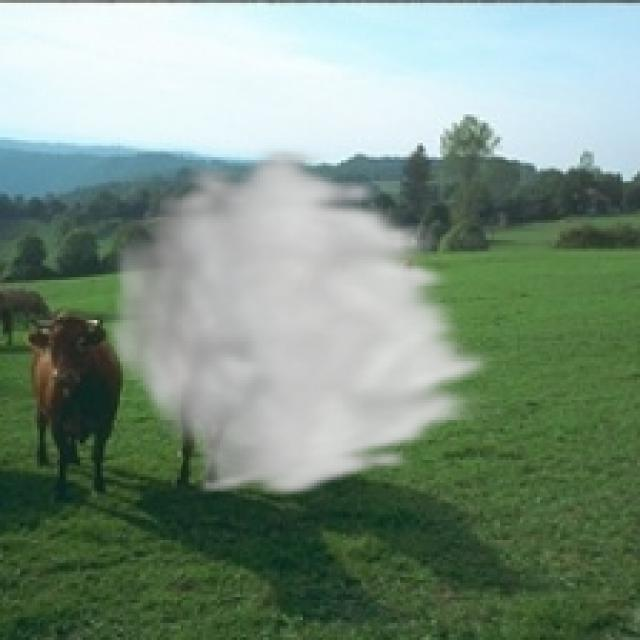smoke: (100, 143, 506, 500)
